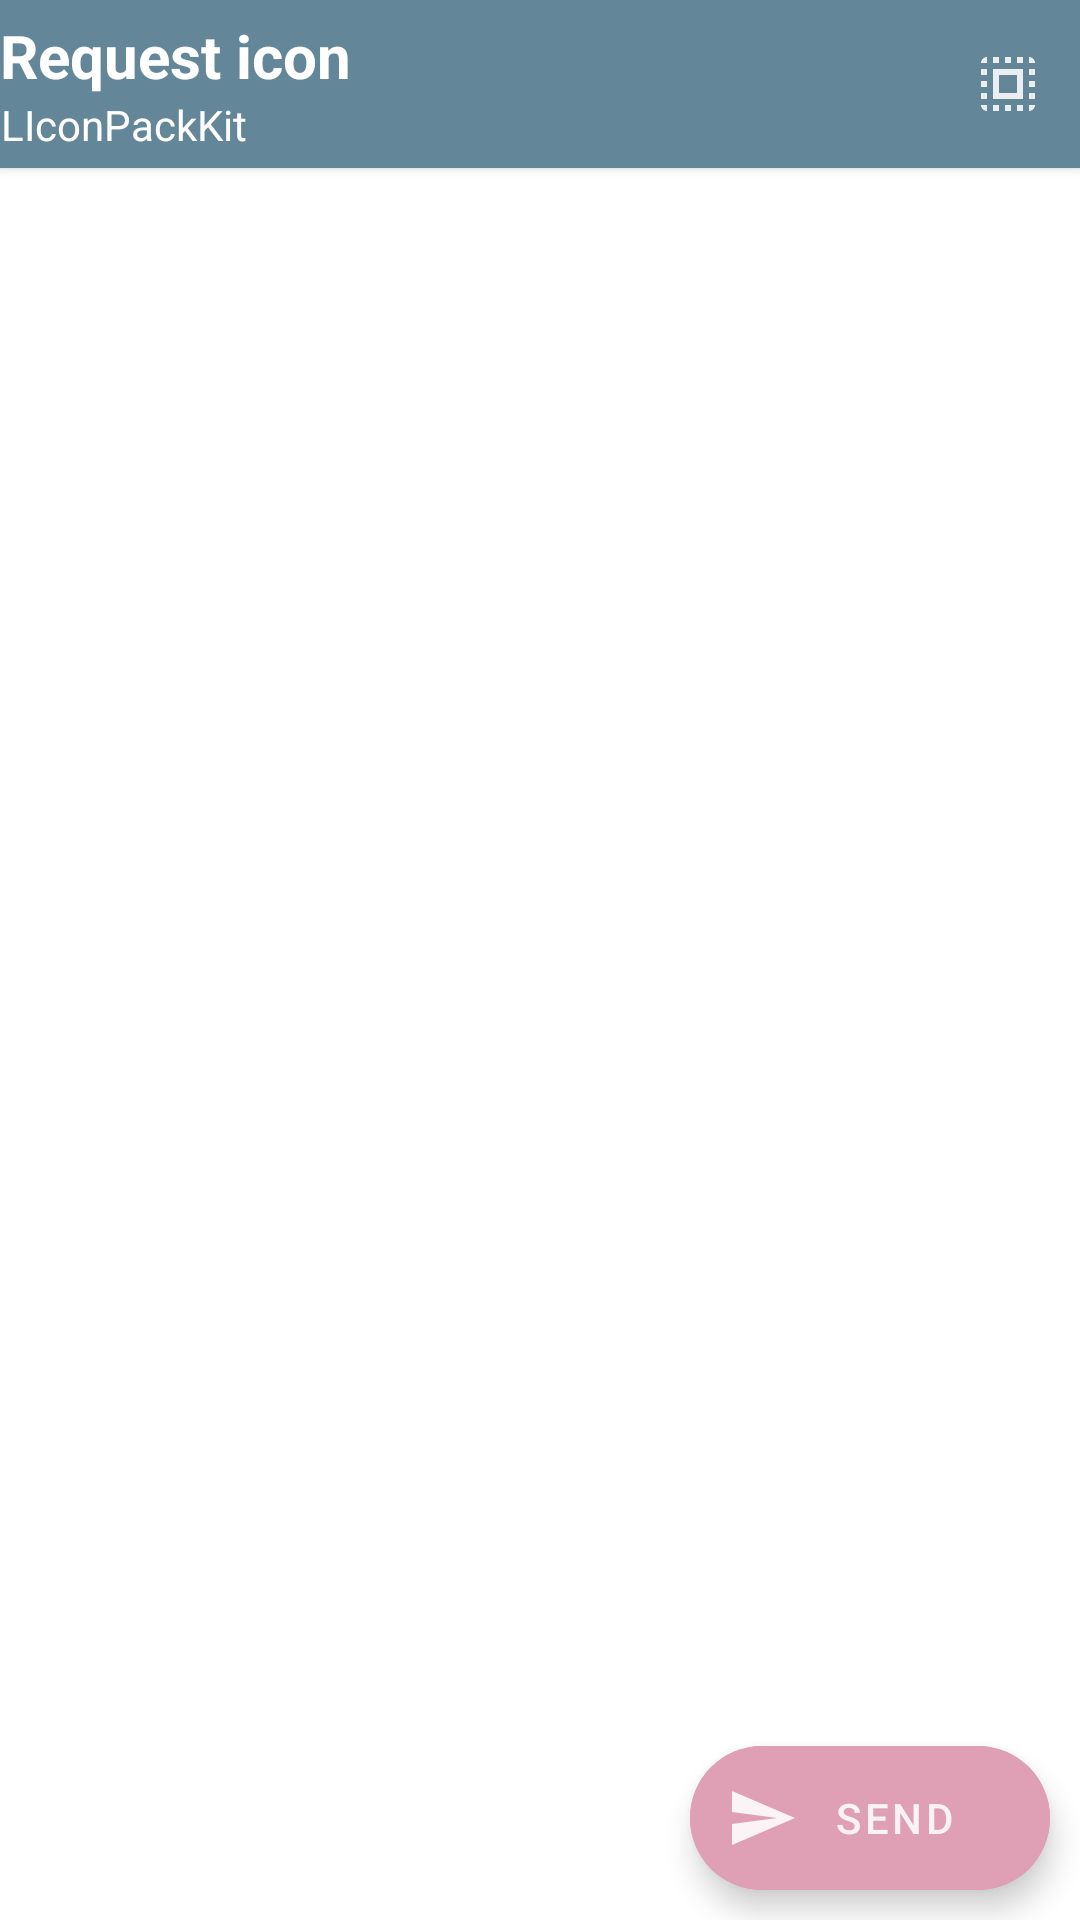

Screen size 1080 × 1920. Icon name, then its box in pixels as region(x1, y1, x2, y2):
select all: region(981, 57, 1035, 111)
